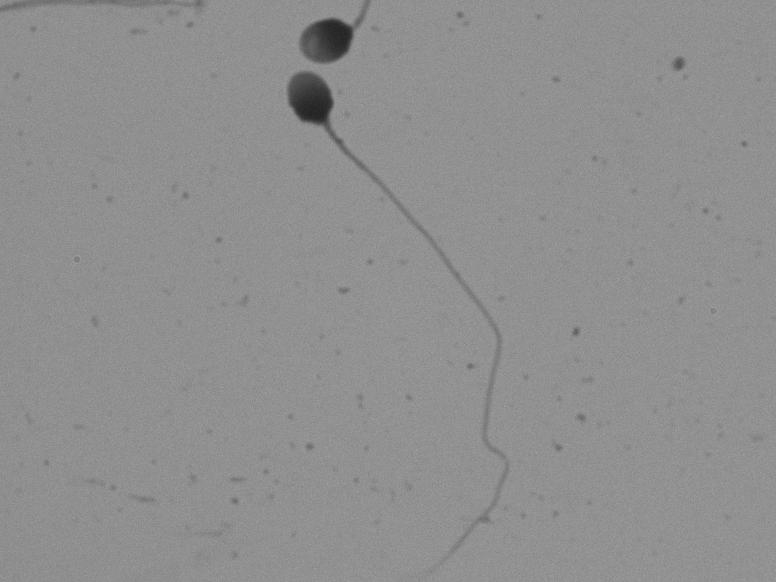Normal: (211, 64, 559, 566)
